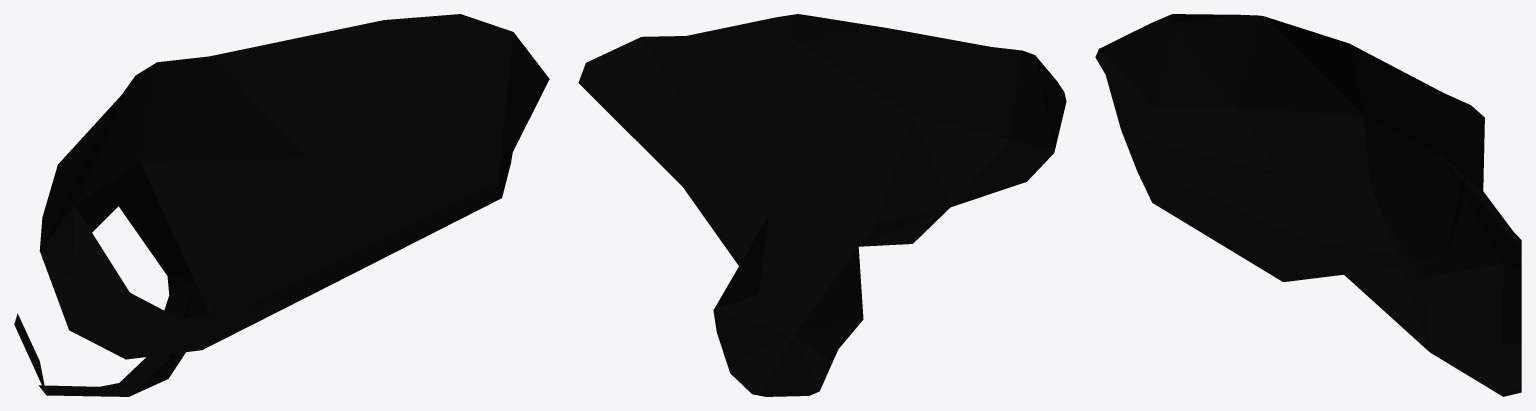
3 views of the same model, side by side, from view 1: azimuth 30°, elevation 25°; view 2: azimuth 150°, elevation 25°; view 3: azimuth 270°, elevation 25° (orthographic). The views are drawn at different scales.
Bounding box in the file's own units: 1.25 × 0.7345 × 0.9903.
Materials: 1 (1 with a texture image).
